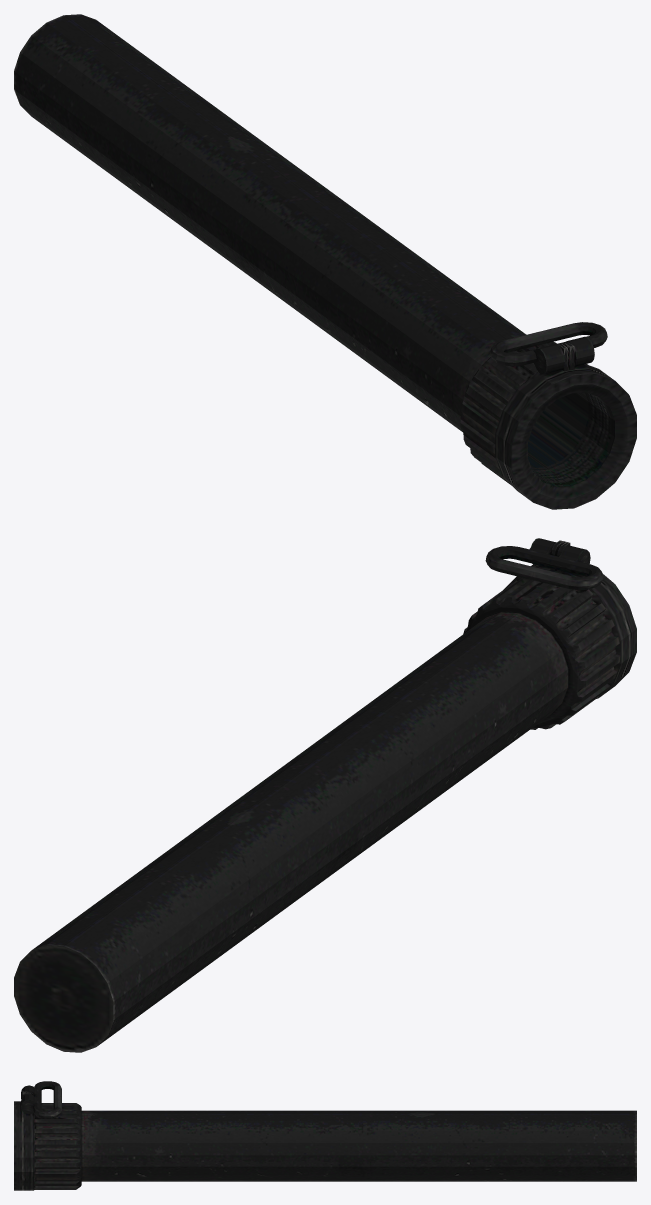
The picture shows the model from 3 angles, top to bottom: view 1: azimuth 30°, elevation 25°; view 2: azimuth 150°, elevation 25°; view 3: azimuth 270°, elevation 25°; orthographic projection. The views are drawn at different scales.
Visible parts, largest first — view 1: TW_5882163824597757561aa922_PZ_Import; view 2: TW_5882163824597757561aa922_PZ_Import; view 3: TW_5882163824597757561aa922_PZ_Import.
Boxes of the visible parts, x1=… form: TW_5882163824597757561aa922_PZ_Import: x1=14, y1=14, x2=636, y2=509; TW_5882163824597757561aa922_PZ_Import: x1=14, y1=538, x2=636, y2=1052; TW_5882163824597757561aa922_PZ_Import: x1=14, y1=1081, x2=636, y2=1190.
Size of the model in its own units: 0.0167 by 0.118 by 0.0198.
1 material, 1 textured.
